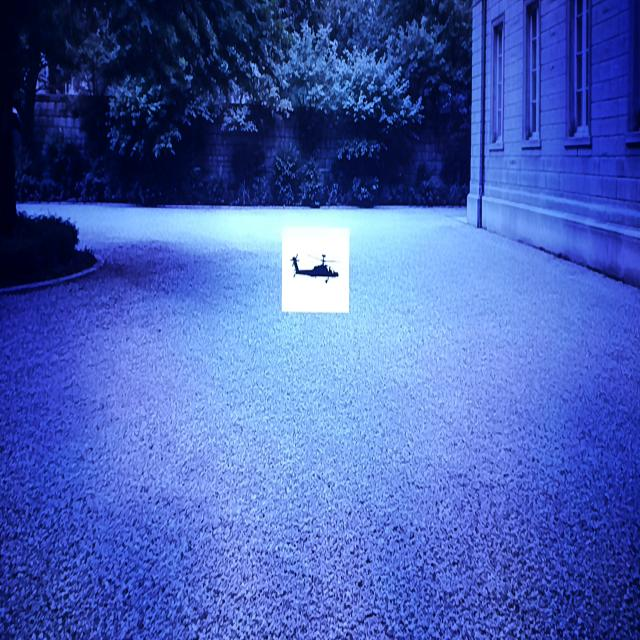Apache friendly: (290, 254, 338, 282)
